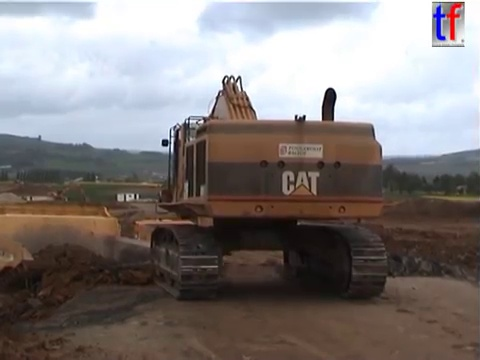excavator: (146, 72, 392, 301), (46, 181, 91, 204)
truck: (1, 200, 192, 327), (116, 215, 233, 282)
